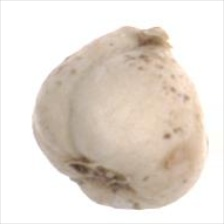L3: (121, 21, 176, 57)
L4: (31, 26, 207, 210)
